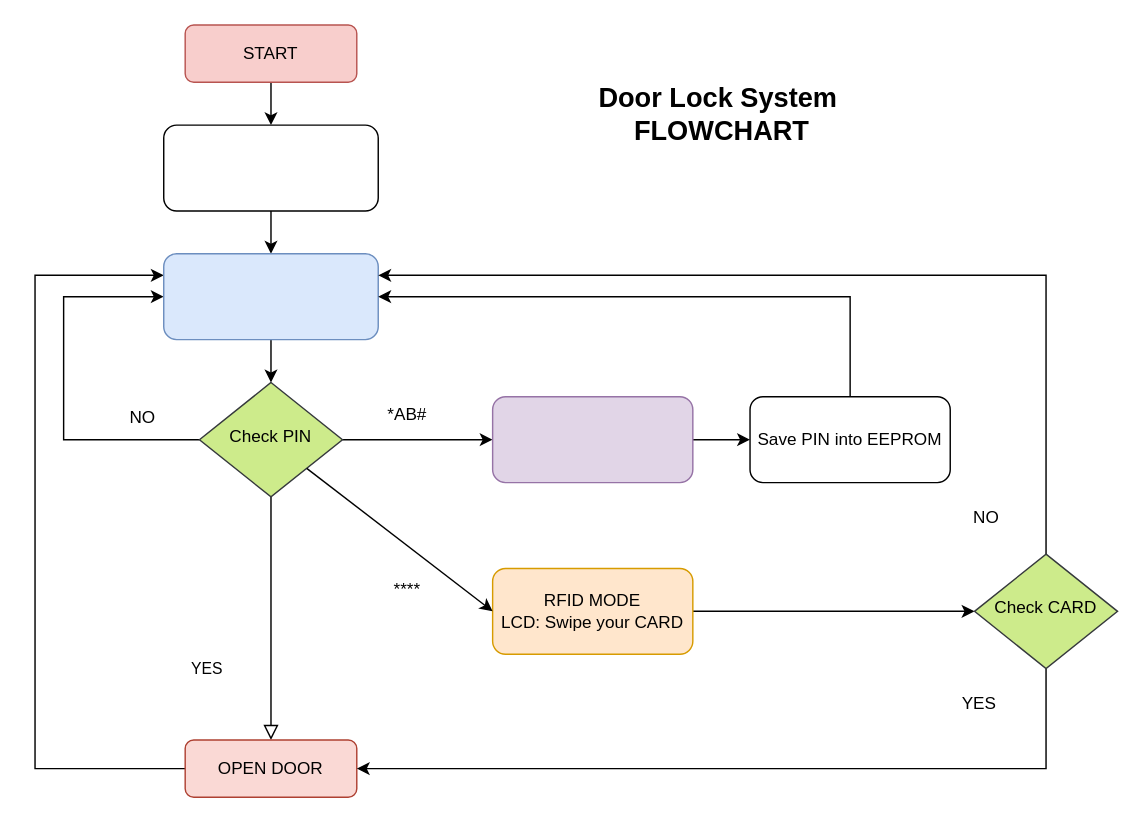
This 1143x822 diagram has some shape labels left out. Each missing label, with the box of its shape:
CHANGE PIN MODE LCD: Enter new PIN: (491, 395, 693, 483)
LCD: Enter PIN number: (162, 252, 378, 340)
Load PIN from EEPROM: (162, 124, 378, 211)
